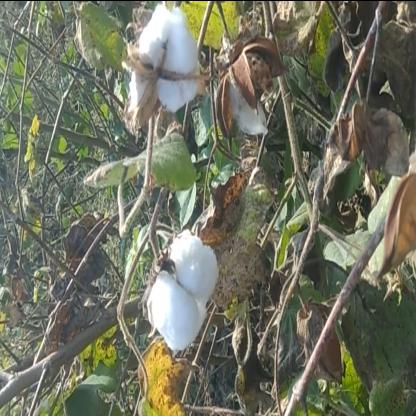cotton_ready: (117, 0, 210, 154), (137, 209, 221, 362)
